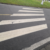zebra: (1, 7, 47, 41)
